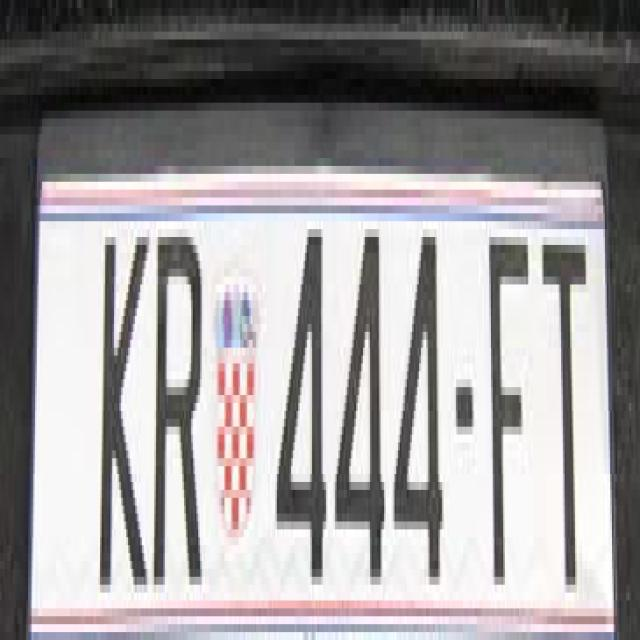Autre: (37, 163, 616, 635)
